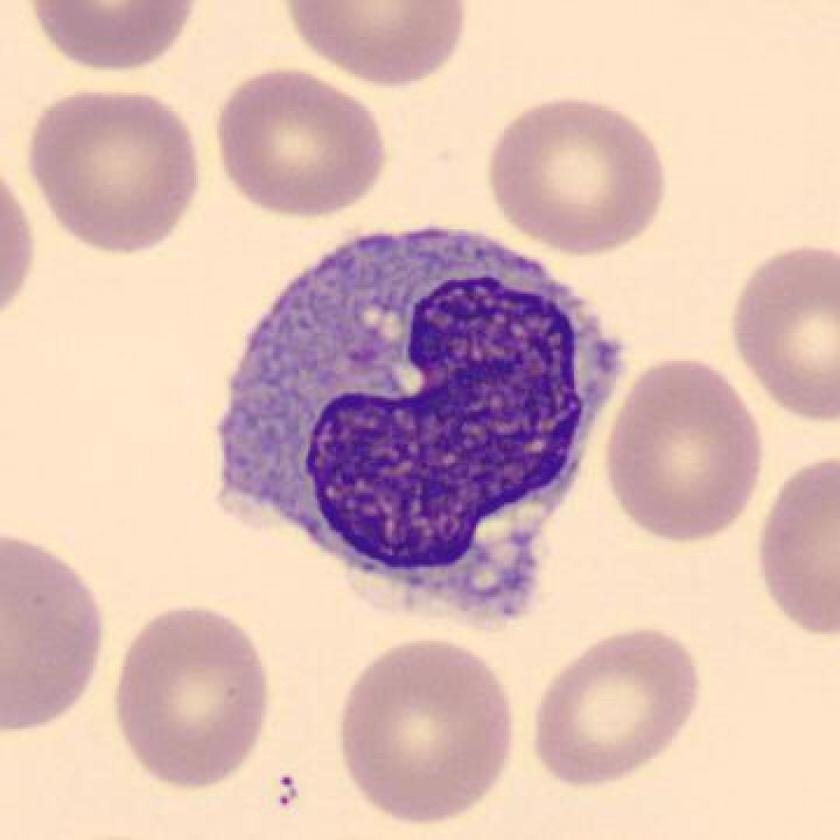monocyte: (204, 202, 650, 642)
